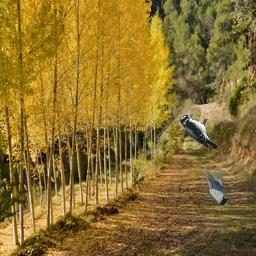Crow: (204, 167, 229, 206)
Woodpecker: (180, 114, 217, 149)
